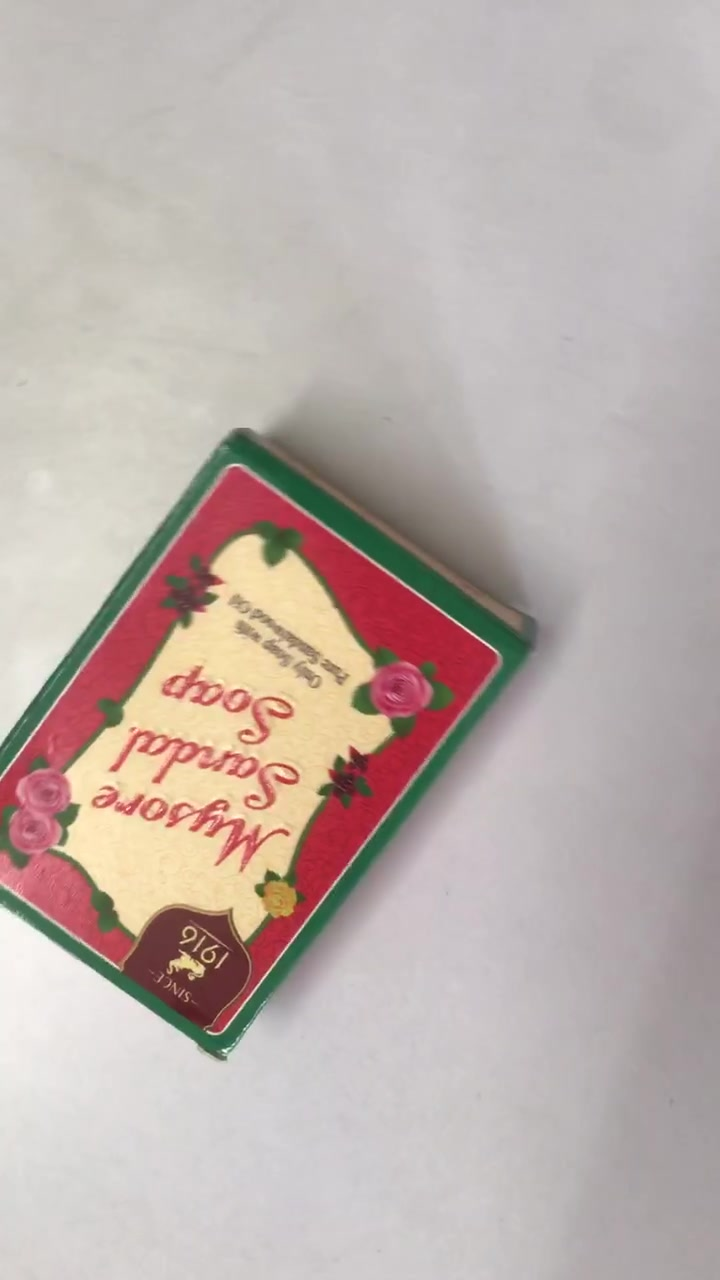mysore sandal soap: (3, 423, 535, 1059)
